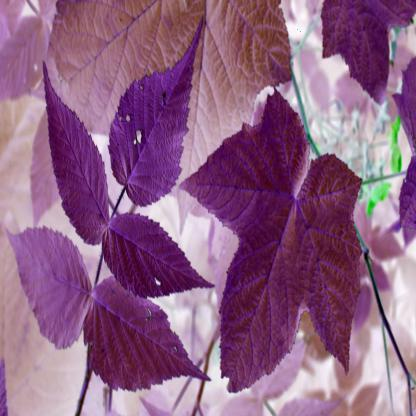Raspberry leaf: (182, 82, 362, 400), (110, 17, 204, 206), (88, 282, 213, 396), (38, 58, 112, 249), (100, 209, 214, 304)
